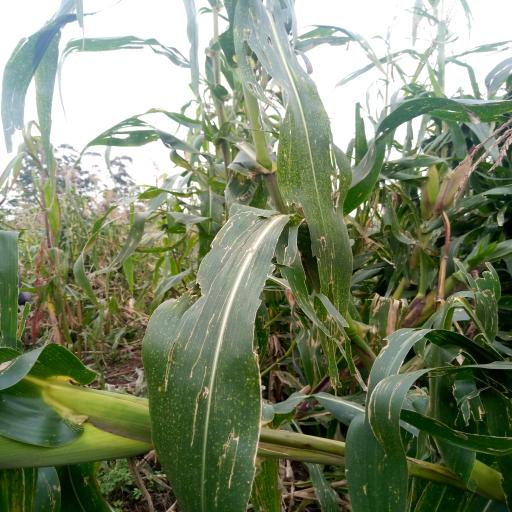Corn_Yellow_Spots: (136, 208, 292, 512)
